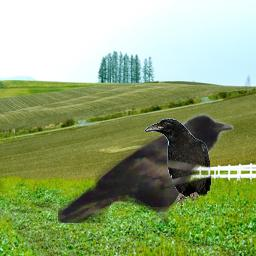Crow: (58, 113, 234, 223), (144, 118, 212, 206)
